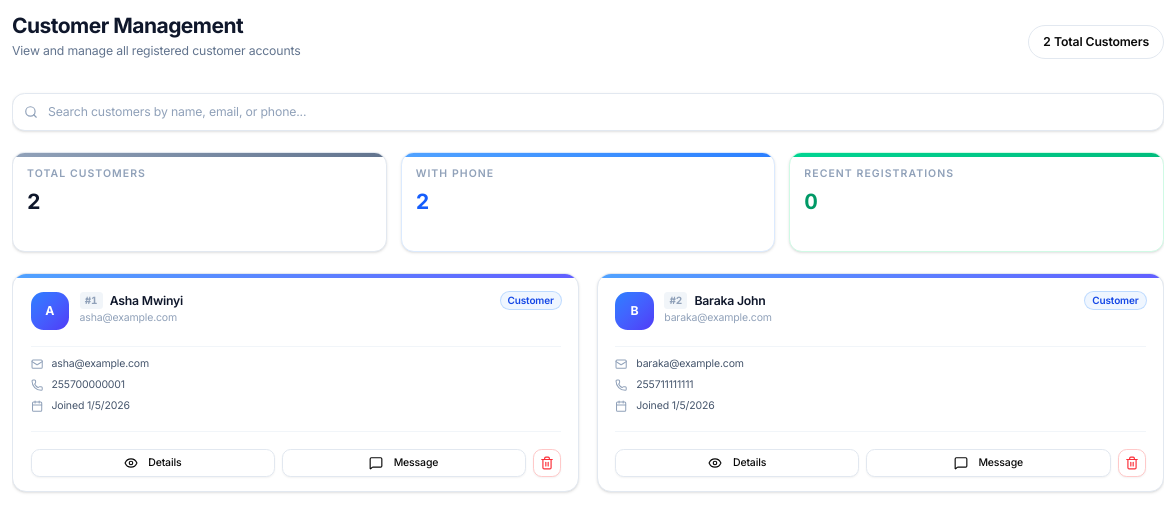
CustomerManagementTab › search › restores the full list when the query is cleared
Expected: the heading "Asha Mwinyi" is shown, [110, 293, 183, 308]
In the field with placeholder "Search customers by name, email, or phone...": (588, 112) [12, 92, 1164, 131], type "baraka"
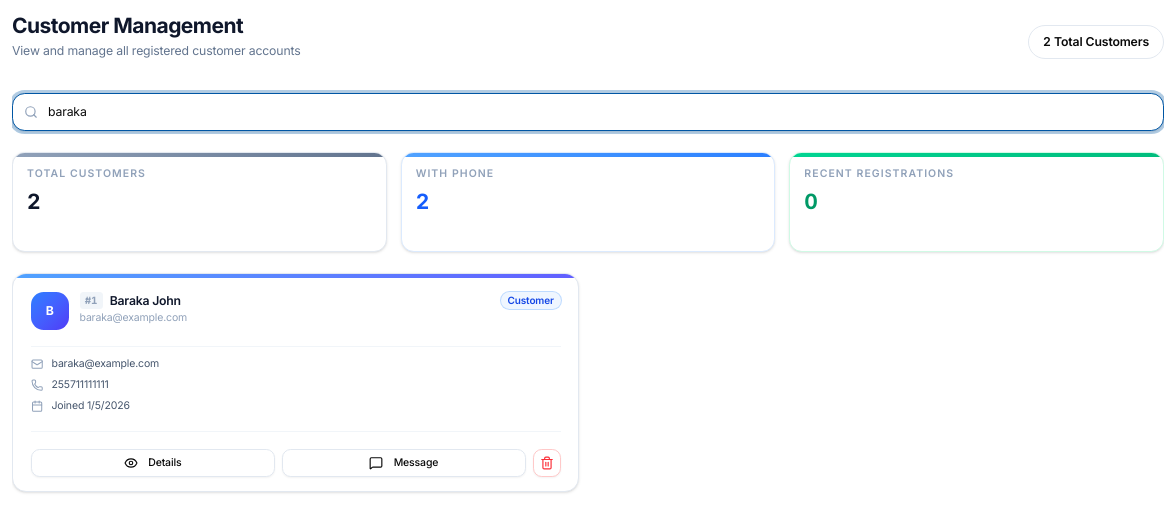
Now the heading "Asha Mwinyi" is gone
Clear the field with placeholder "Search customers by name, email, or phone...": (588, 112) [12, 92, 1164, 131]
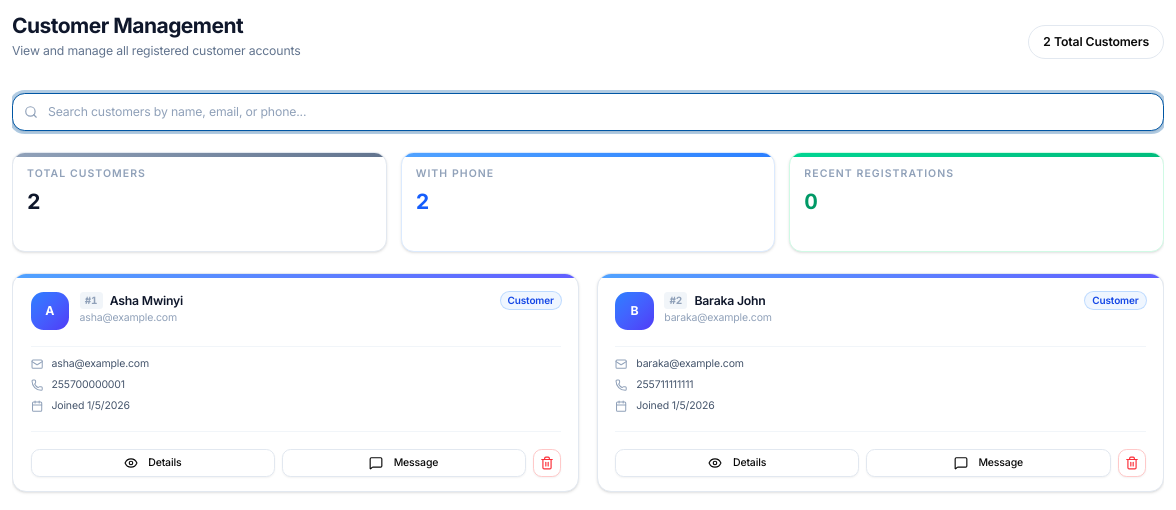
Now the heading "Asha Mwinyi" is shown, box [110, 293, 183, 308]
